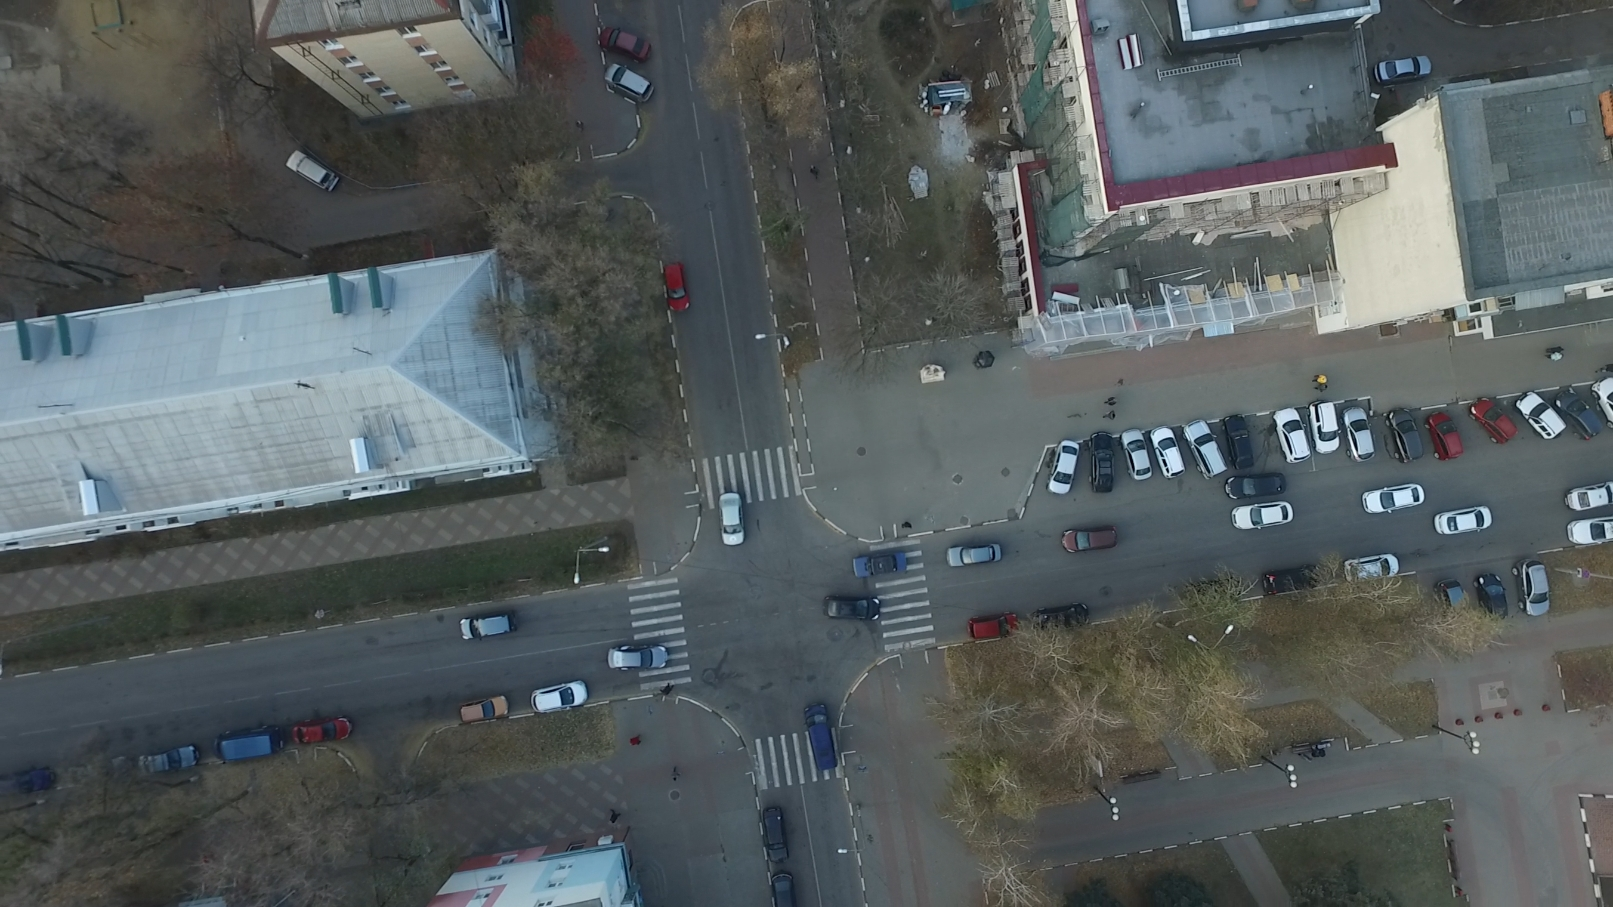car: (1514, 390, 1565, 442), (1553, 389, 1601, 444), (1182, 421, 1226, 480), (1271, 408, 1313, 465), (803, 703, 839, 771), (1384, 406, 1427, 462), (282, 150, 339, 192), (1469, 396, 1517, 446), (1514, 556, 1551, 619), (217, 728, 286, 761), (1360, 482, 1425, 517), (1422, 409, 1462, 462), (1149, 425, 1186, 481), (289, 714, 353, 746), (530, 678, 586, 713), (1340, 406, 1376, 463), (598, 25, 651, 63), (138, 742, 201, 774), (1231, 501, 1297, 530), (605, 64, 654, 104), (65, 754, 127, 785), (1046, 436, 1079, 494), (1374, 54, 1434, 85), (1086, 429, 1114, 493), (1030, 604, 1092, 632), (1308, 400, 1340, 454), (1121, 427, 1154, 480), (1475, 573, 1510, 621), (1434, 507, 1493, 536), (1342, 554, 1400, 583), (823, 592, 880, 622), (1260, 566, 1323, 592), (459, 614, 518, 641), (1224, 415, 1254, 471), (850, 550, 908, 578), (762, 806, 789, 865), (1566, 478, 1613, 512), (1223, 474, 1286, 498), (718, 491, 746, 546), (608, 645, 667, 670), (460, 695, 510, 725), (1565, 515, 1613, 546), (1, 769, 56, 795), (1436, 578, 1469, 622), (1061, 527, 1120, 552), (969, 614, 1019, 641), (662, 262, 690, 312), (1589, 373, 1613, 430), (945, 545, 1007, 567), (771, 870, 797, 907)
